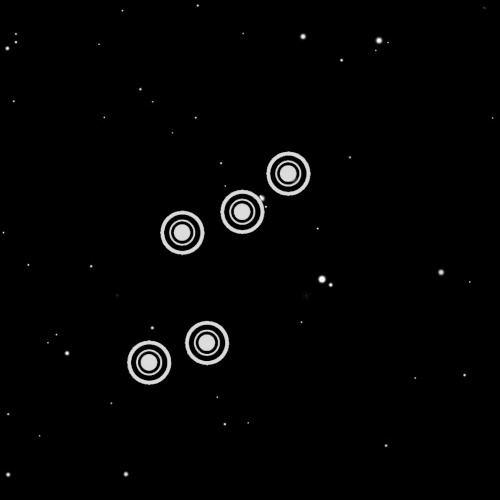lyra: (119, 127, 323, 408)
